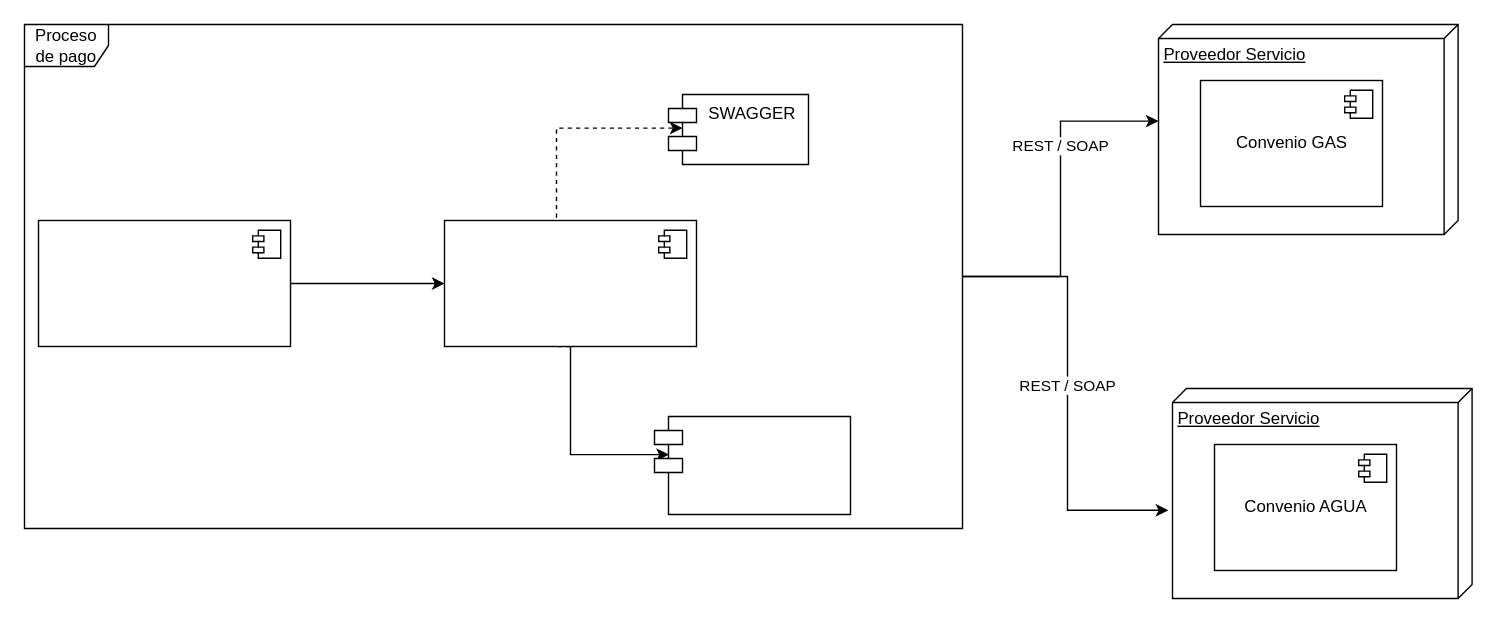
Image size: 1497x623. Some labels were removed from this diagram. Here are the shapes that lost their labels. From the top down, the box of each, then its label:
(37, 219, 290, 346): Usuario
(443, 219, 696, 346): Servicio Routing
(653, 415, 850, 514): BD manejo convenios
